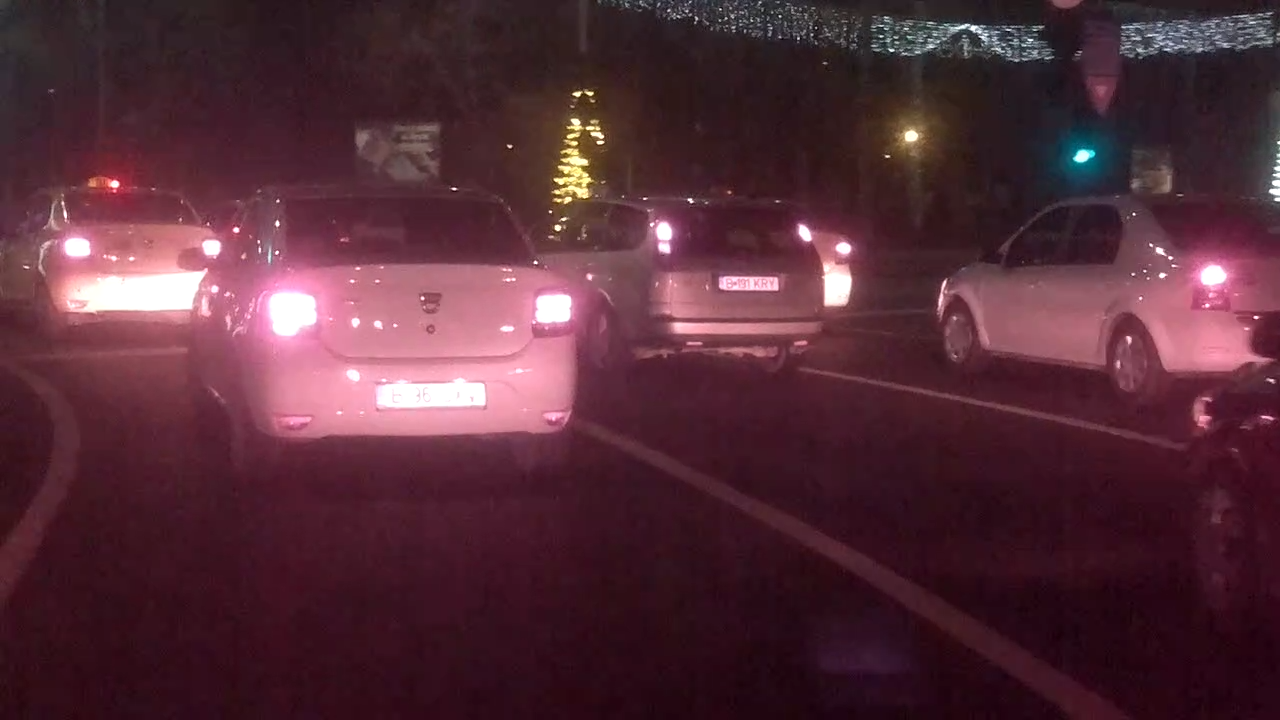license-plate: (714, 271, 782, 295)
